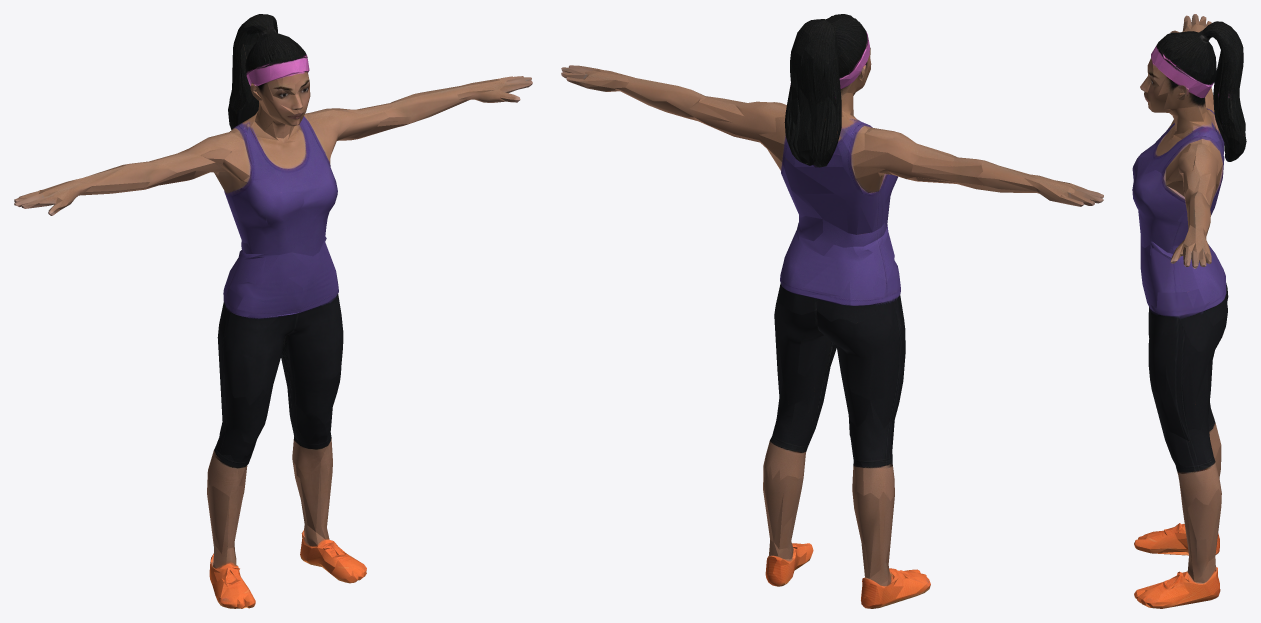
Rendered from image3d.glb.
3 renders of one model, left to right at view 1: azimuth 30°, elevation 25°; view 2: azimuth 150°, elevation 25°; view 3: azimuth 270°, elevation 25°, orthographic. The views are drawn at different scales.
Size of the model in its own units: 1.86 by 1.9 by 0.3562.
1 material, 1 textured.
